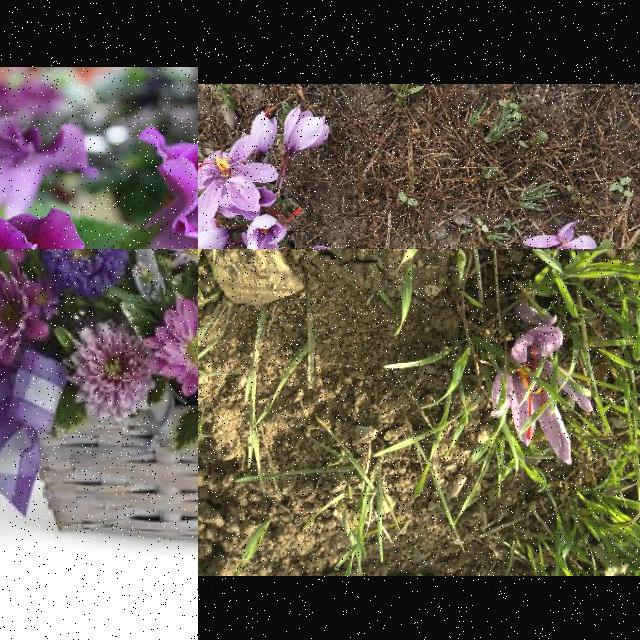flower: (492, 326, 594, 466), (284, 103, 330, 155), (523, 221, 601, 249)
overlap: (198, 105, 303, 249)
